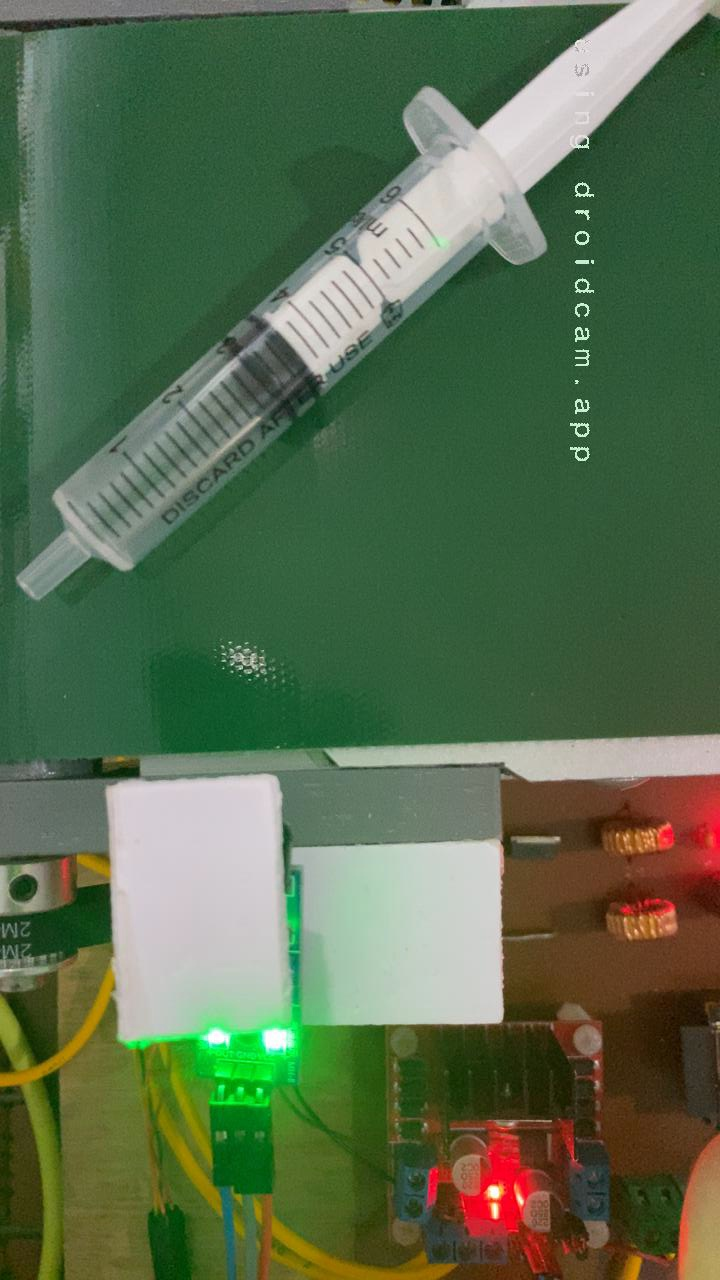syringe: (10, 11, 720, 605)
